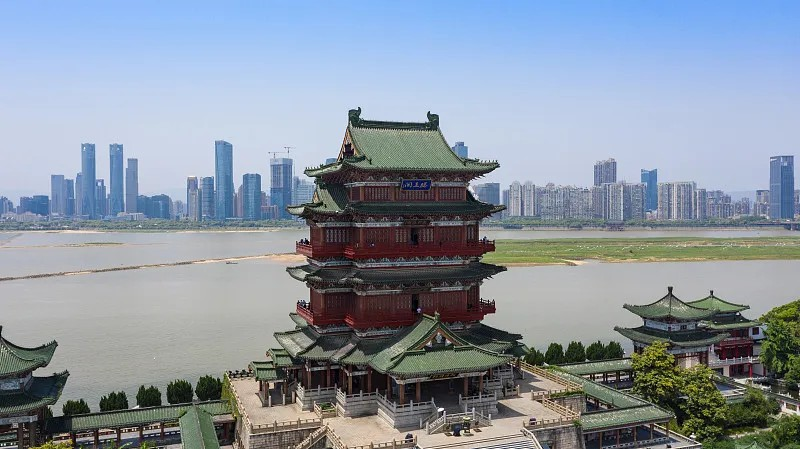Teng: (248, 106, 532, 403)
